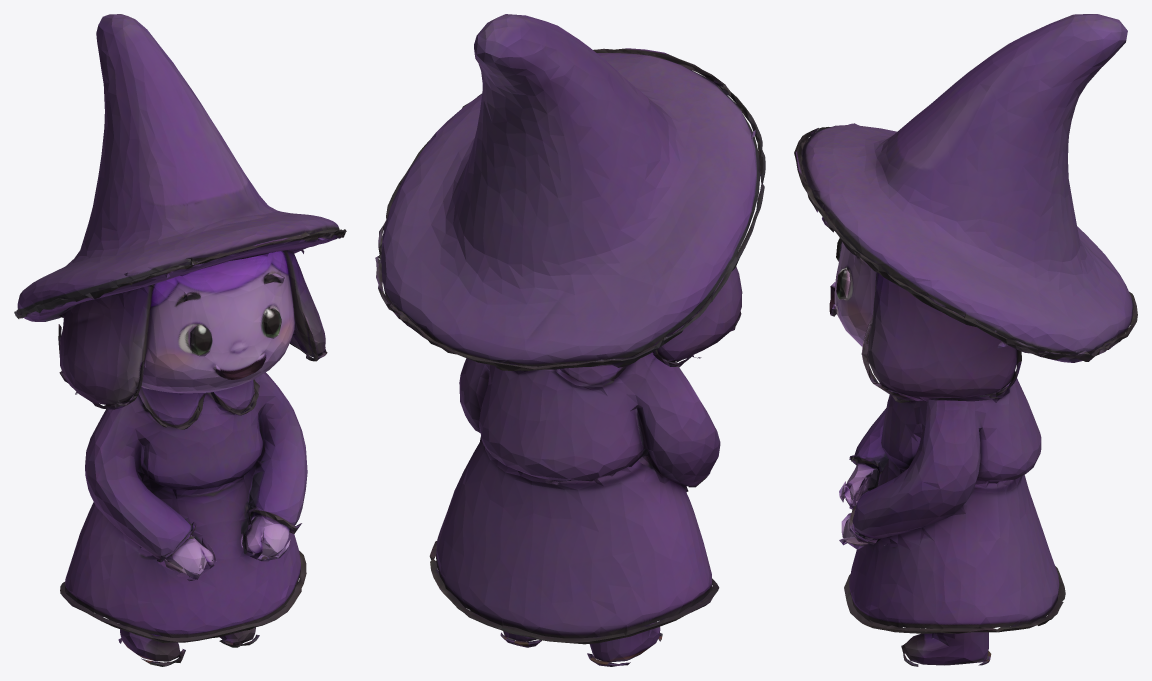
The model's file is Luna_0614195404_texture.fbx.
The picture shows the model from 3 angles, left to right: view 1: azimuth 30°, elevation 25°; view 2: azimuth 150°, elevation 25°; view 3: azimuth 270°, elevation 25°; orthographic projection. The views are drawn at different scales.
Parts seen in each view (by area): view 1: temp; view 2: temp; view 3: temp.
Boxes of the visible parts, bbox=[...] form: temp: bbox=[14, 14, 346, 666]; temp: bbox=[375, 14, 765, 666]; temp: bbox=[794, 14, 1137, 666].
Size of the model in its own units: 103 by 198 by 98.42.
1 material, 1 textured.
